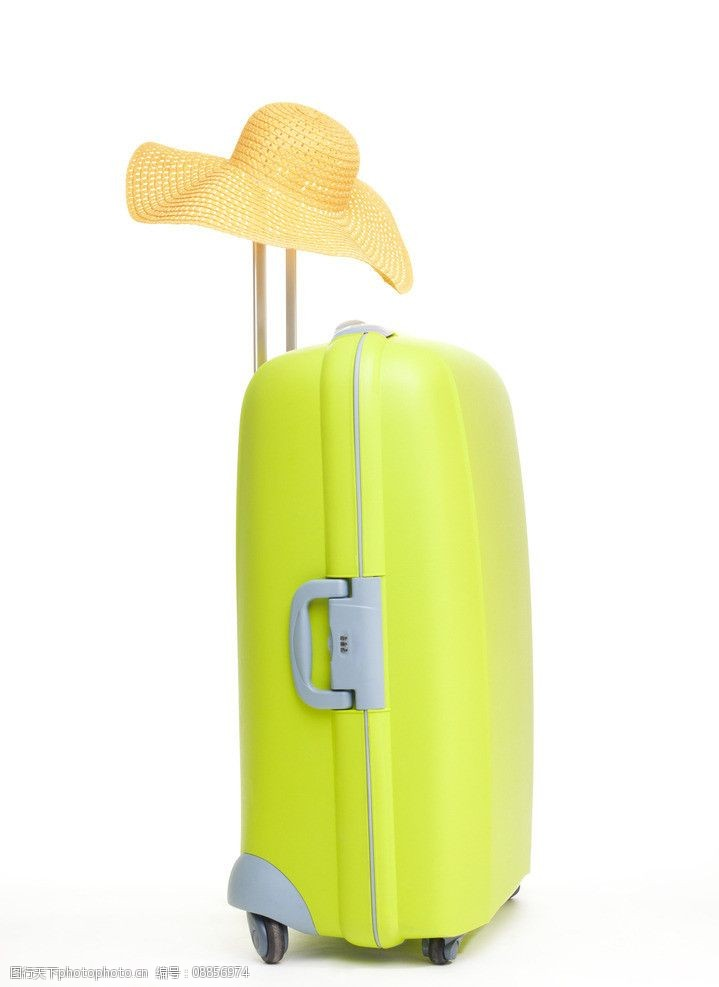box: (237, 337, 534, 951)
handle: (287, 576, 387, 711)
lock: (333, 624, 360, 663)
wheel: (245, 913, 289, 964), (420, 935, 461, 966)
